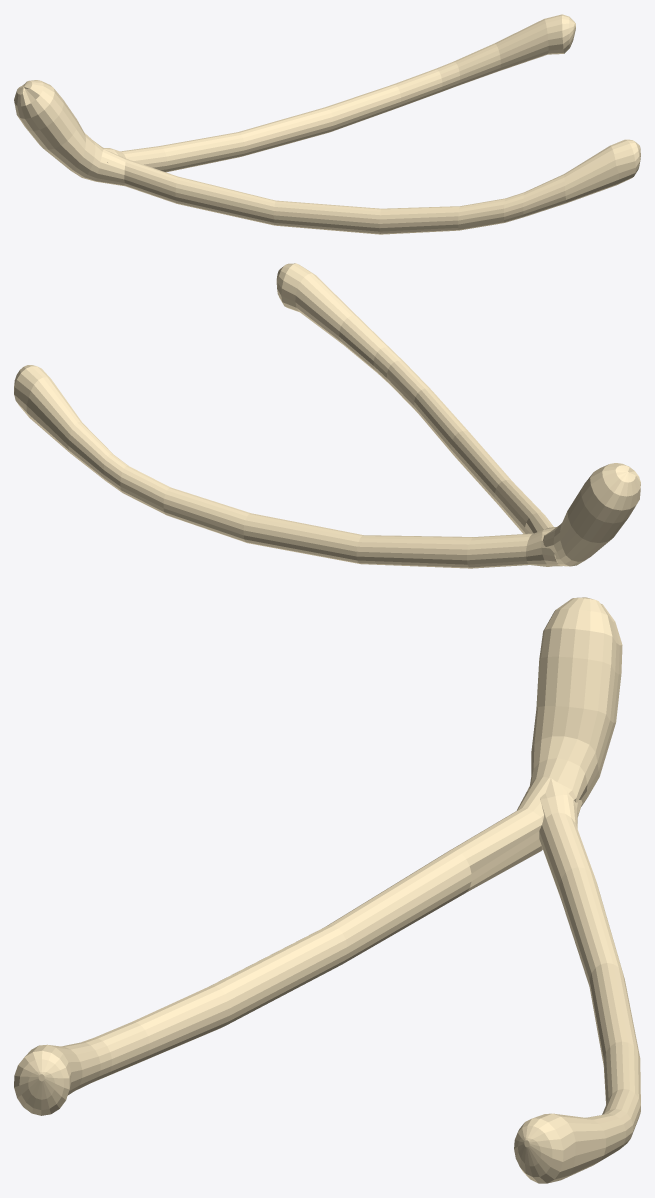
The picture shows the model from 3 angles, top to bottom: view 1: azimuth 30°, elevation 25°; view 2: azimuth 150°, elevation 25°; view 3: azimuth 270°, elevation 25°; orthographic projection. The views are drawn at different scales.
Visible parts, largest first — view 1: Cylinder002; view 2: Cylinder002; view 3: Cylinder002.
Boxes of the visible parts, x1=… form: Cylinder002: x1=14, y1=14, x2=640, y2=234; Cylinder002: x1=14, y1=263, x2=640, y2=568; Cylinder002: x1=14, y1=597, x2=640, y2=1183.
Bounding box in the file's own units: 612274 × 142478 × 355392.
